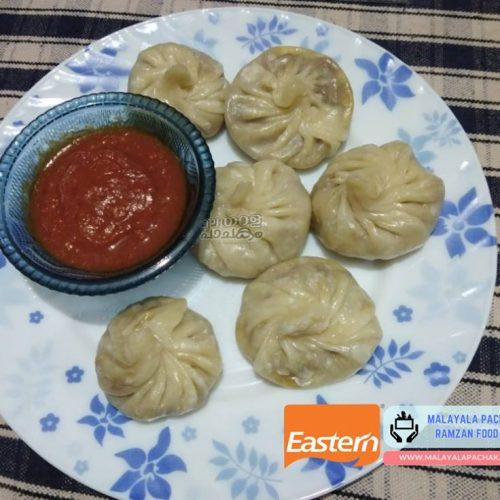momos: (236, 257, 382, 387), (96, 297, 222, 421), (312, 141, 444, 259), (226, 48, 354, 169), (193, 159, 312, 279), (129, 43, 228, 137)
